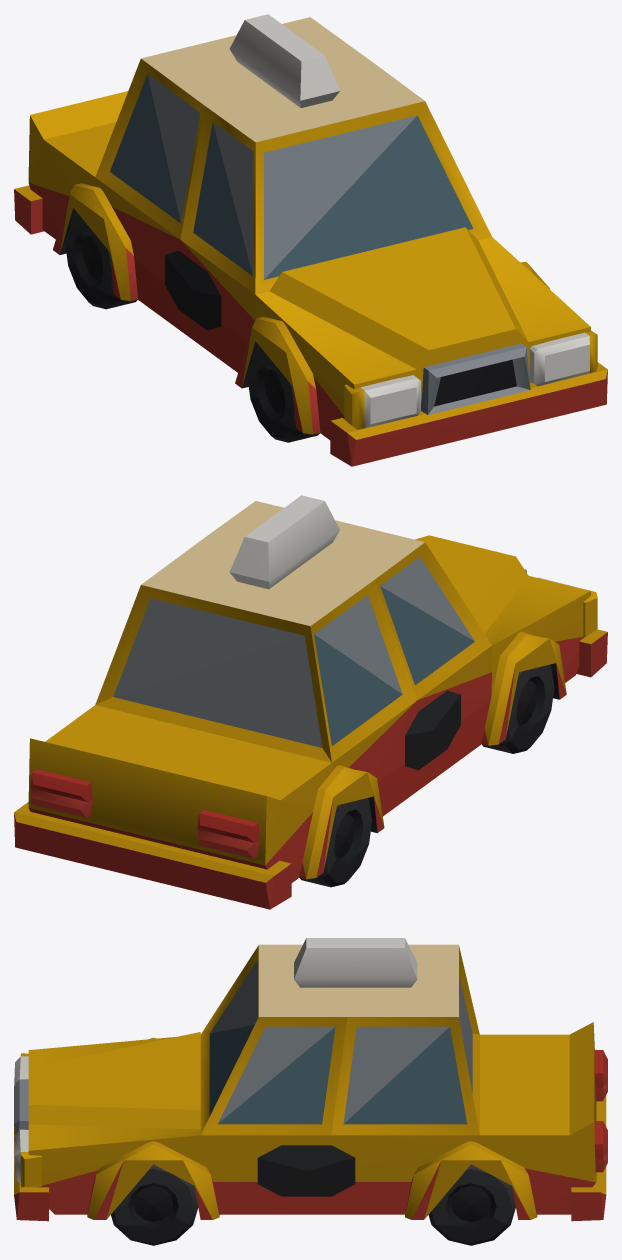
The model's file is taxi.low.88ea255d.glb.
The picture shows the model from 3 angles, top to bottom: view 1: azimuth 30°, elevation 25°; view 2: azimuth 150°, elevation 25°; view 3: azimuth 270°, elevation 25°; orthographic projection. The views are drawn at different scales.
Parts seen in each view (by area): view 1: taxi; view 2: taxi; view 3: taxi.
Part boxes in pixels (left/top/right/bottom): taxi: left=14, top=14, right=607, bottom=466; taxi: left=14, top=495, right=607, bottom=909; taxi: left=14, top=938, right=607, bottom=1245.
Size of the model in its own units: 2.19 by 2.27 by 4.9.
